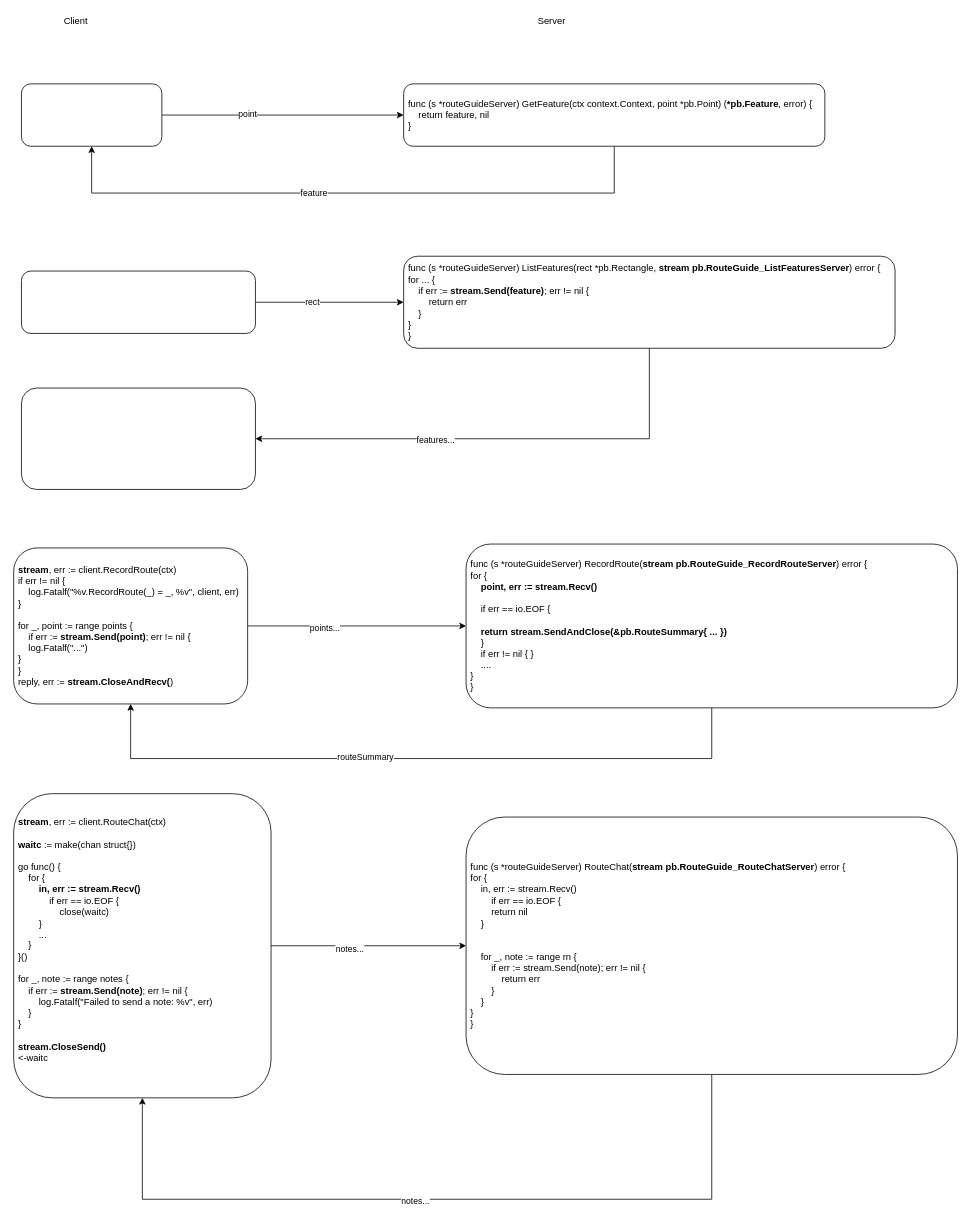
Some shapes in this 971 by 1219 pixel diagram are drawn without their labels. The centre of each missing label's shape, as x and y in pixels:
"client.GetFeature(ctx, point)" belongs at point 91,114.
"for { feature, err := stream.Recv() if err == io.EOF { break } .... }" belongs at point 138,438.
"stream, err := client.ListFeatures(ctx, rect)" belongs at point 138,301.
